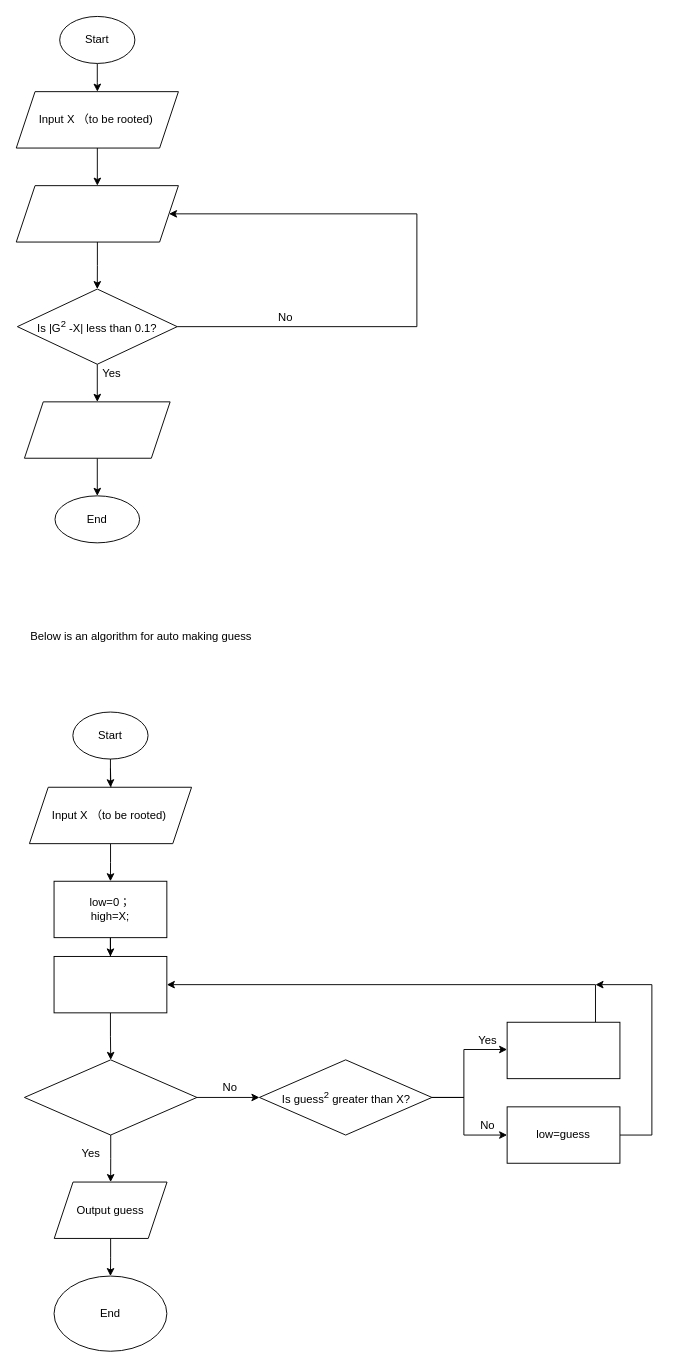
The diagram is 677 pixels wide and 1368 high, and some of its shapes have lost their labels. Here are the shapes that lost their labels. From the top down, the centre of each, then its label:
At pixel 96 213: "Input G （G for guess)".
At pixel 97 429: "Output G".
At pixel 110 984: "guess=(low+high)/2".
At pixel 563 1050: "high=guess".
At pixel 110 1097: "|guess 2 - X|<0.1?".
